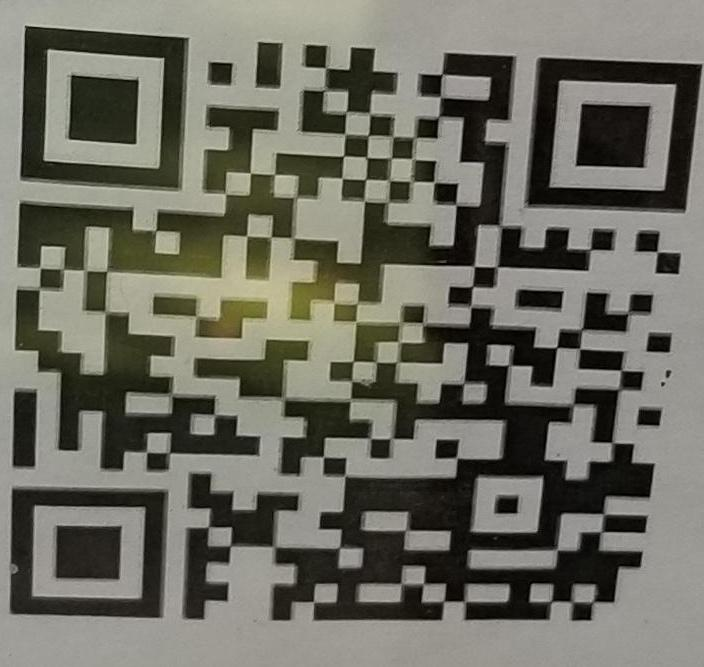qrcode: (12, 27, 704, 622)
